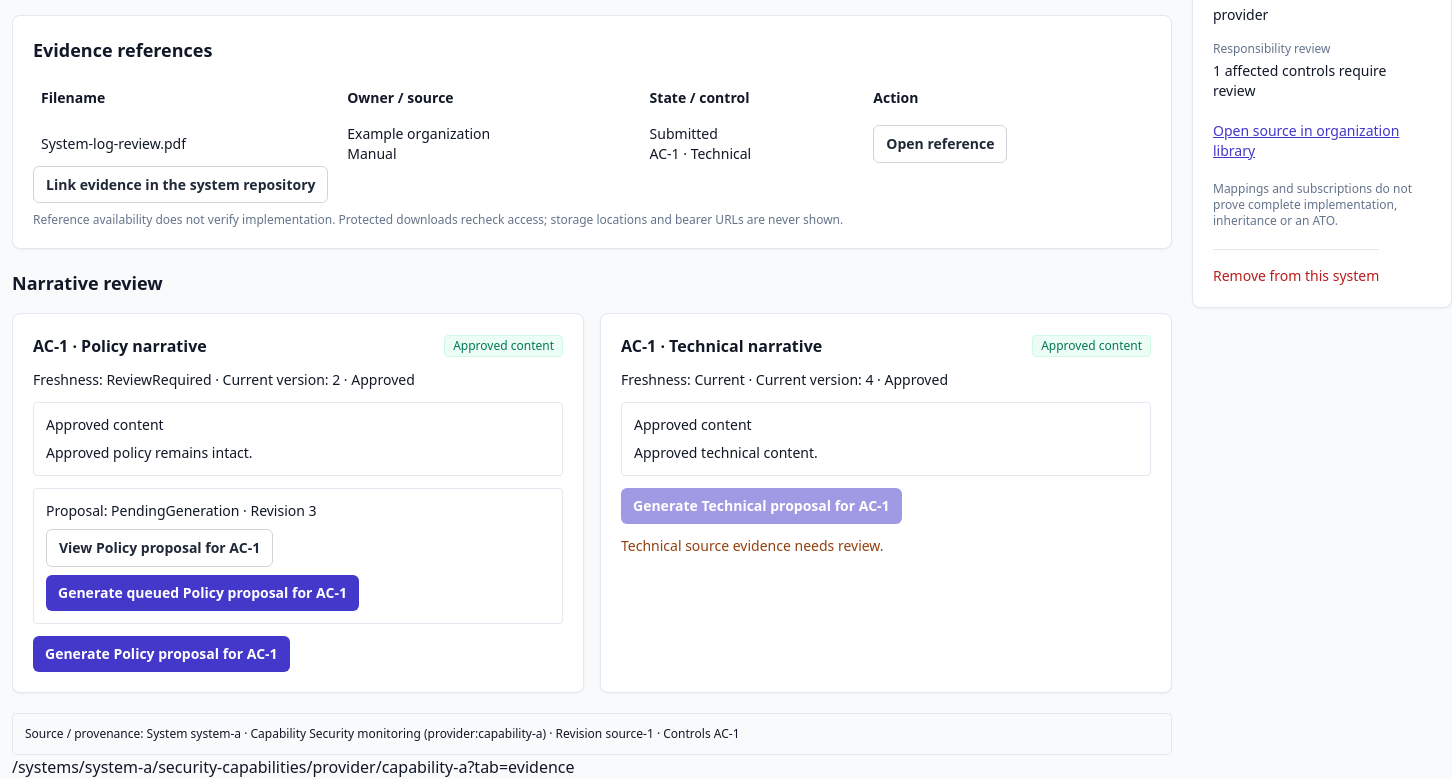
it: System capability detail › generates an existing queued proposal with its exact revision instead of creating a duplicate
(page scrolled)
Click the button "Generate queued Policy proposal for AC-1": (202, 593) 46,575 -> 359,611
(page scrolled)
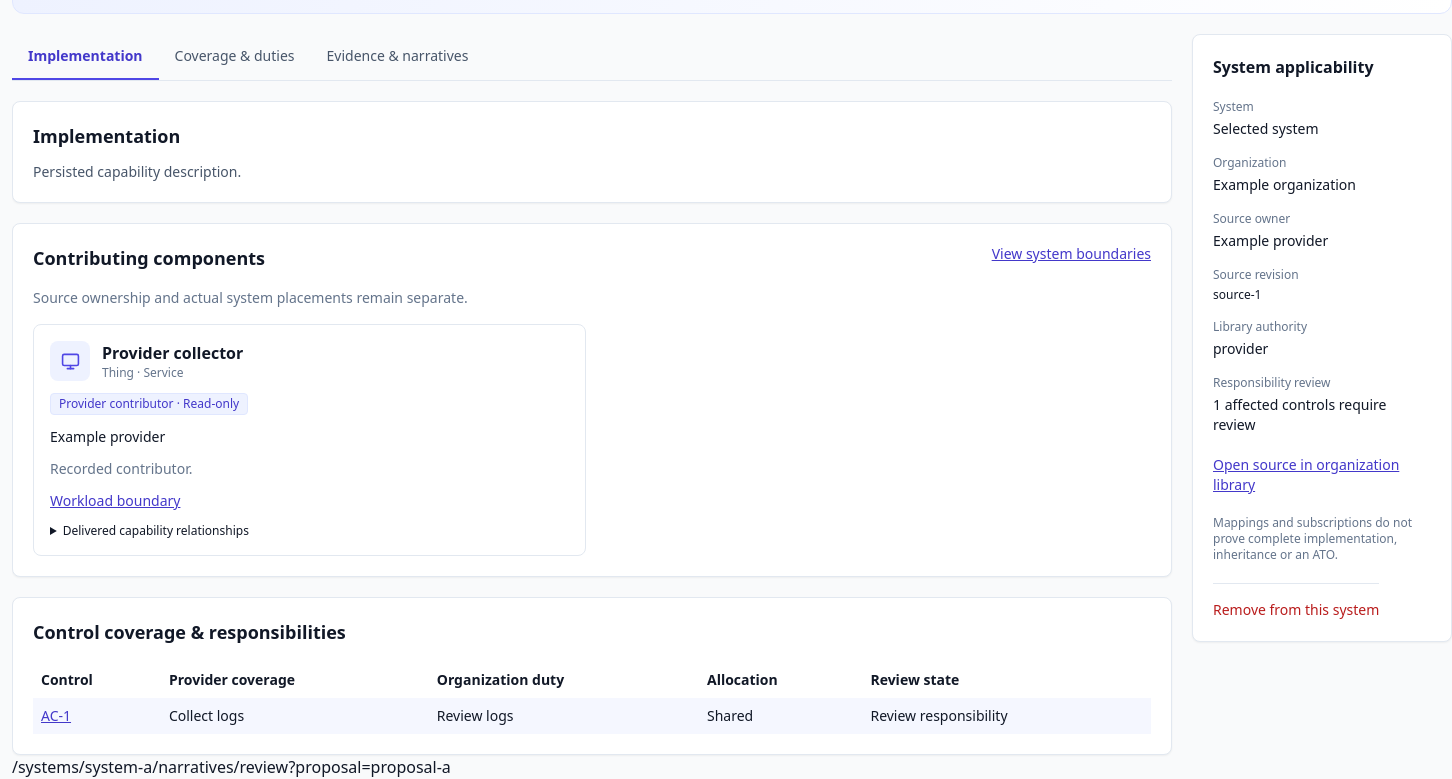
Now the text named "Current route" shows "proposal=proposal-a", box 288,756 -> 451,778
